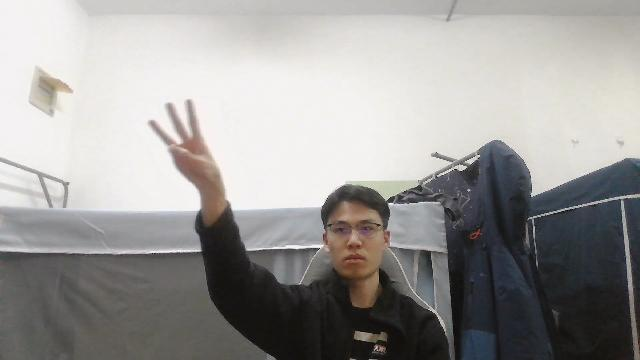three: (146, 92, 236, 193)
